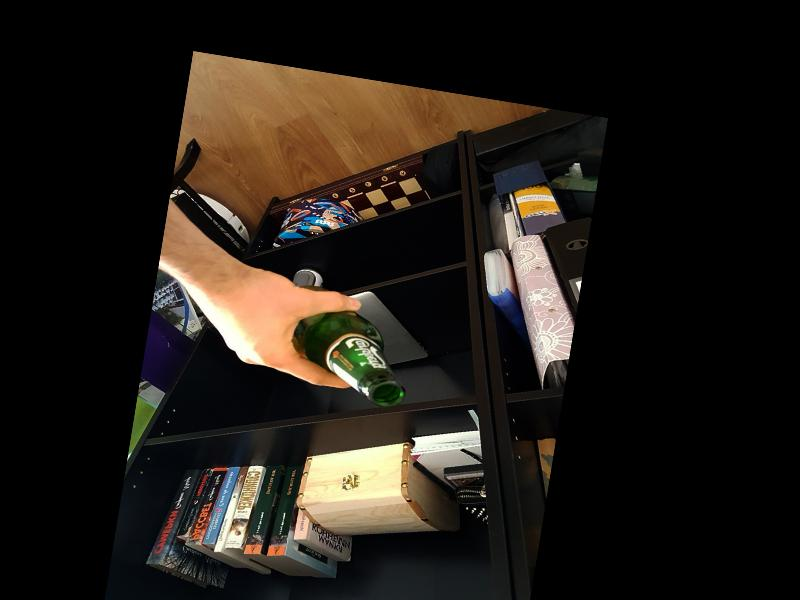Beer: (276, 282, 420, 408)
